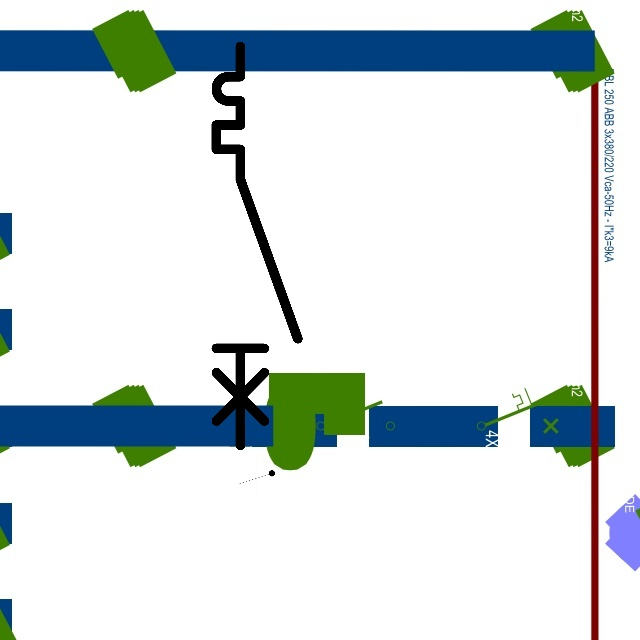interruptor_termomagnetico: (206, 36, 308, 455)
